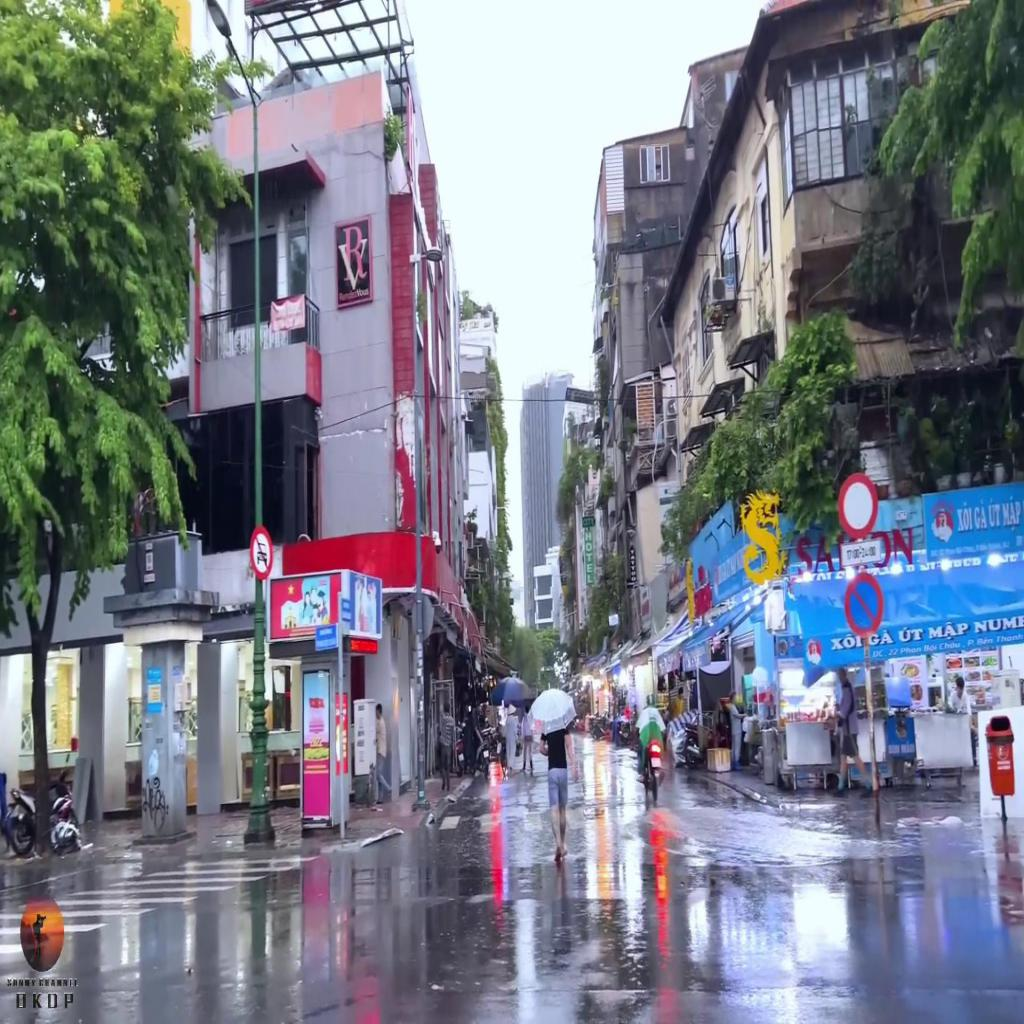cam_do_xe: (844, 569, 884, 637)
cam_o_to: (250, 525, 274, 581)
khac: (838, 472, 878, 541), (840, 538, 882, 566)
